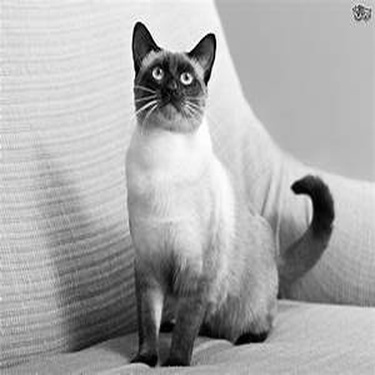cat: (122, 17, 338, 366)
